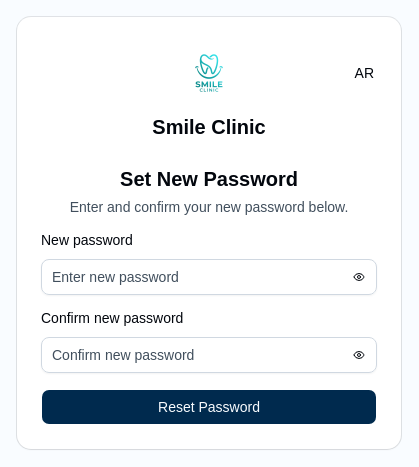
Test: ResetPasswordPage validation and errors (US3) › toggle shows/hides newPassword field and preserves value (RP-VT-009)
Step 1. Type "mySecret123" into the password field labelled "New password" → [209, 277], box [41,259,377,295]
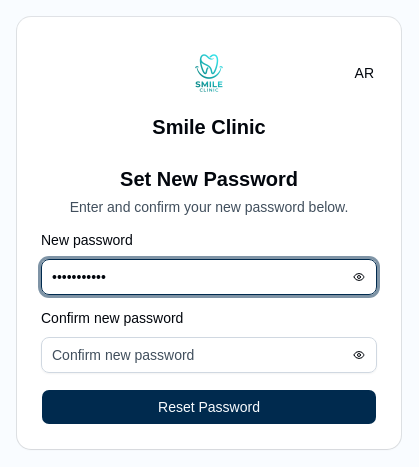
Step 2. Click the button named "show new password" → [359, 277], box [347,265,371,289]
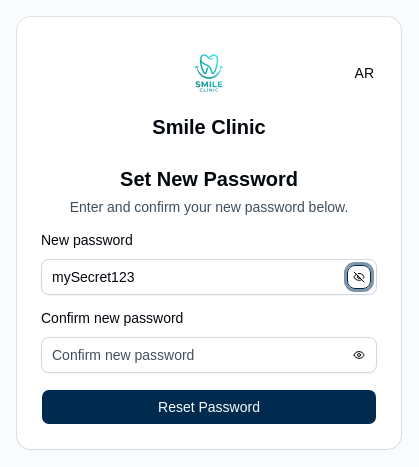
Expected: the field labelled "New password" shows its text, [41,259,377,295]
Expected: the button named "hide new password" is shown, [347,265,371,289]
